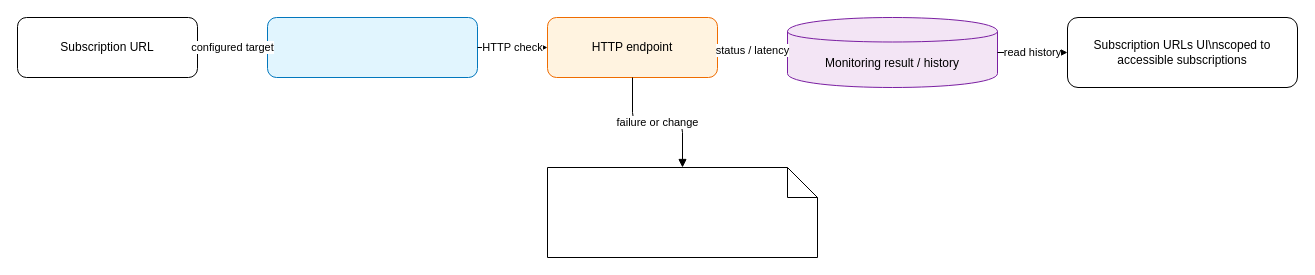
Some shapes in this 1315 by 275 pixel diagram are drawn without their labels. Here are the shapes that lost their labels. From the top down, the centre of each, then its label:
At point 372,47: "URL monitor command / job".
At point 682,212: "Failure / status change\n→ notification / audit when configured".
